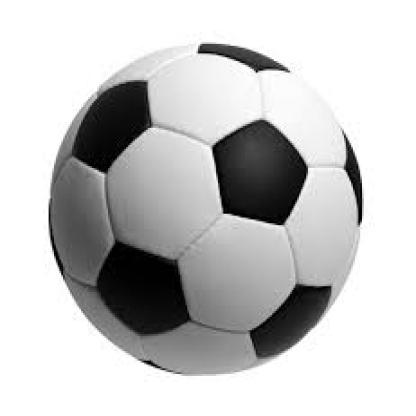ball: (50, 43, 368, 376)
